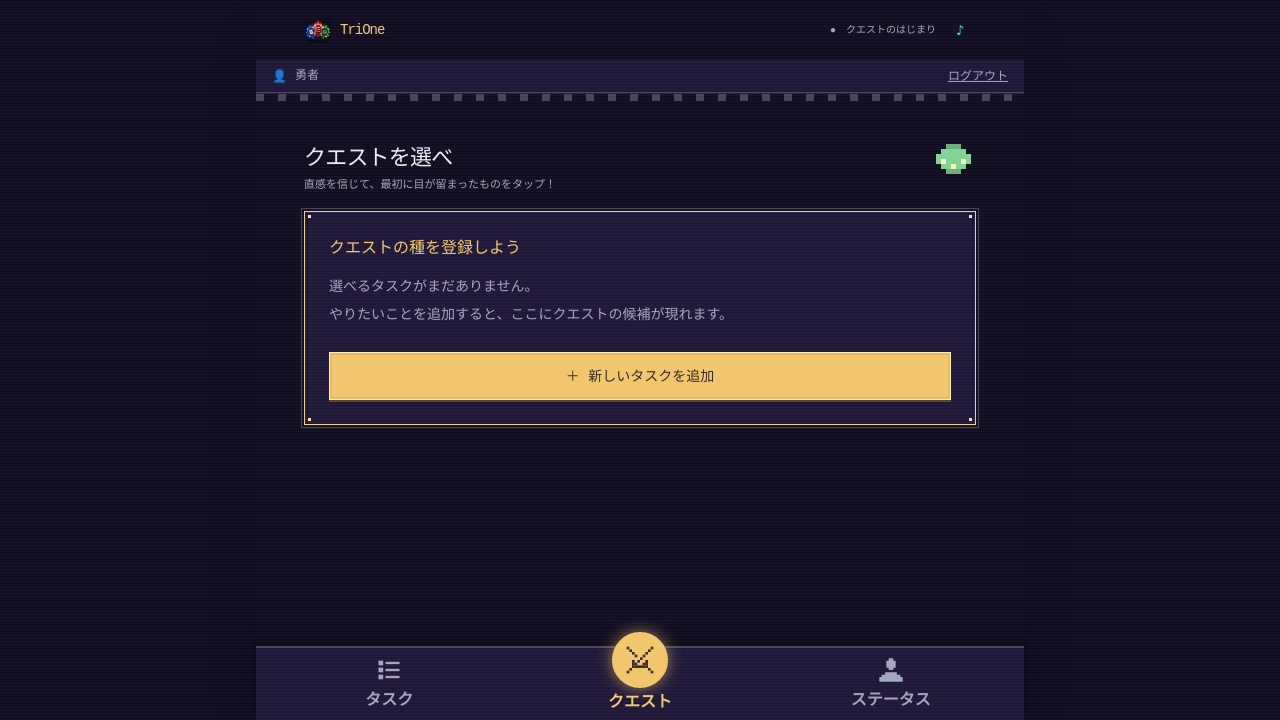
Test: タスク登録と3択の画面遷移 › 保存失敗時は入力を失わず、再送が成功するまで作成画面を閉じない
This screenshot has width=1280, height=720.
Click the button "＋ 新しいタスクを追加": [640, 376] box left=329, top=352, right=951, bottom=400
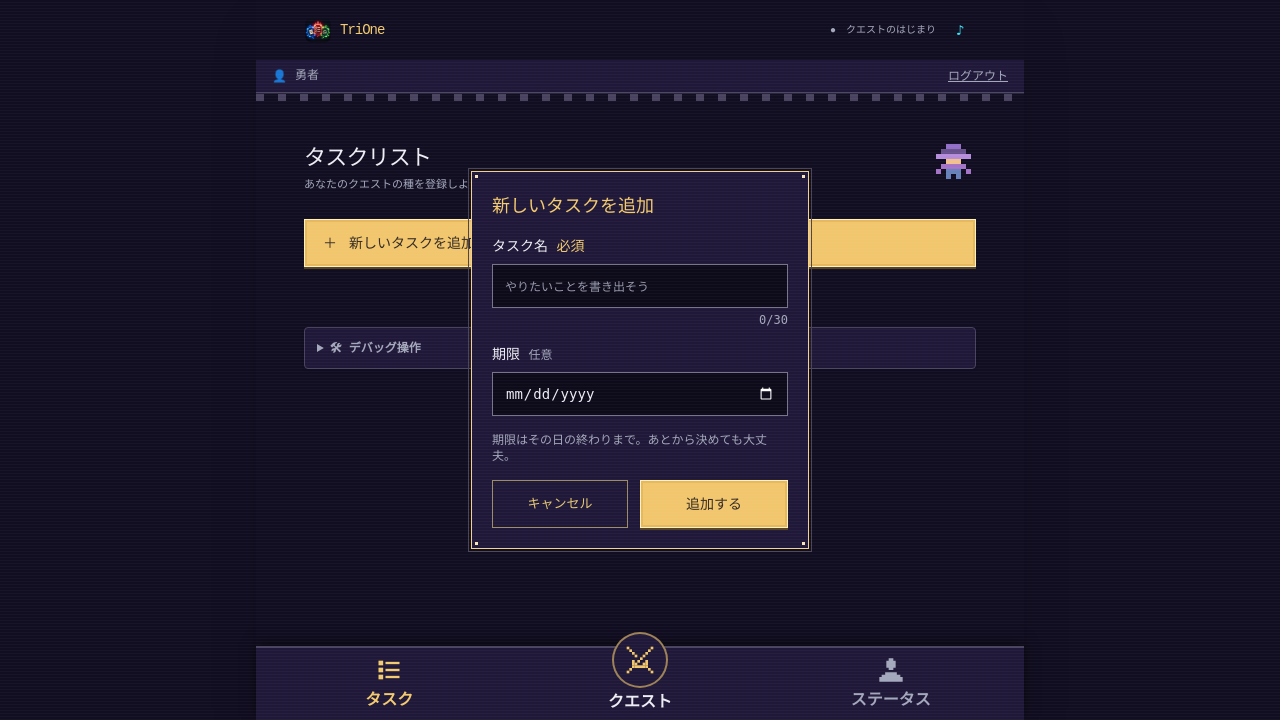
In the field labelled "タスク名 必須": [640, 286] box left=492, top=264, right=788, bottom=308, type "消してはいけない下書き"
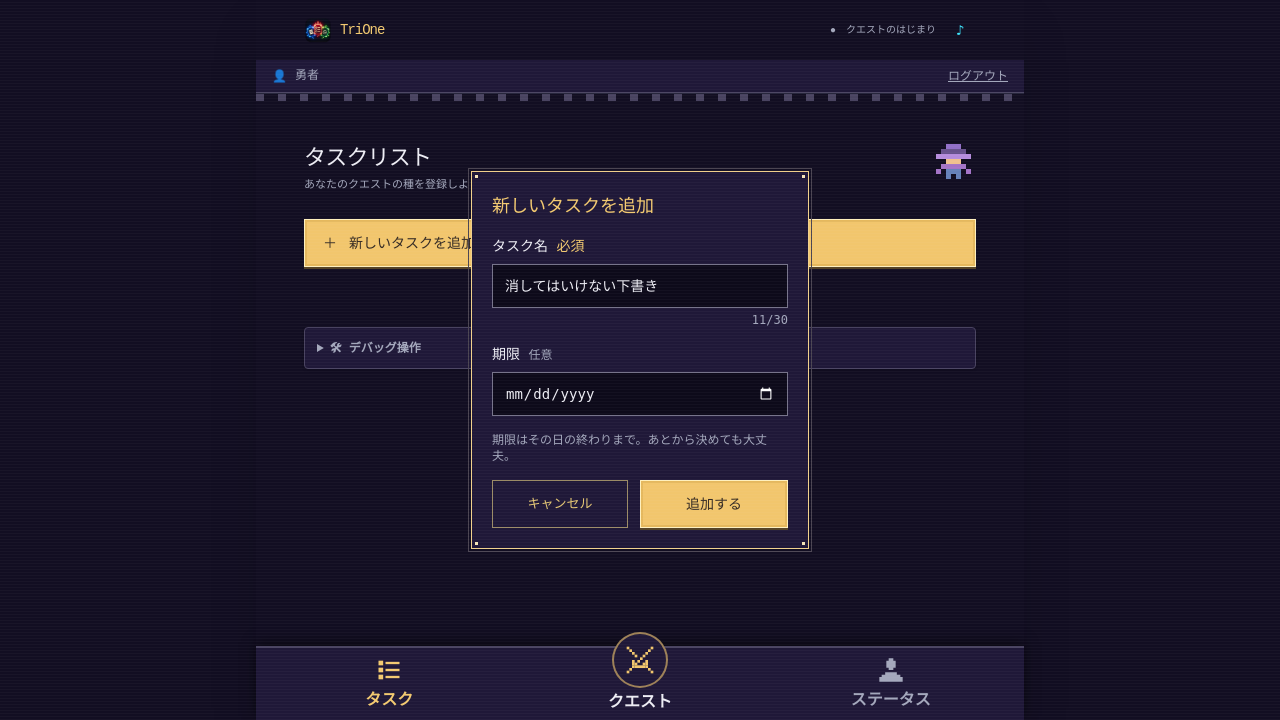
In the date field labelled "期限 任意": [640, 394] box left=492, top=372, right=788, bottom=416, type "2026-11-01"
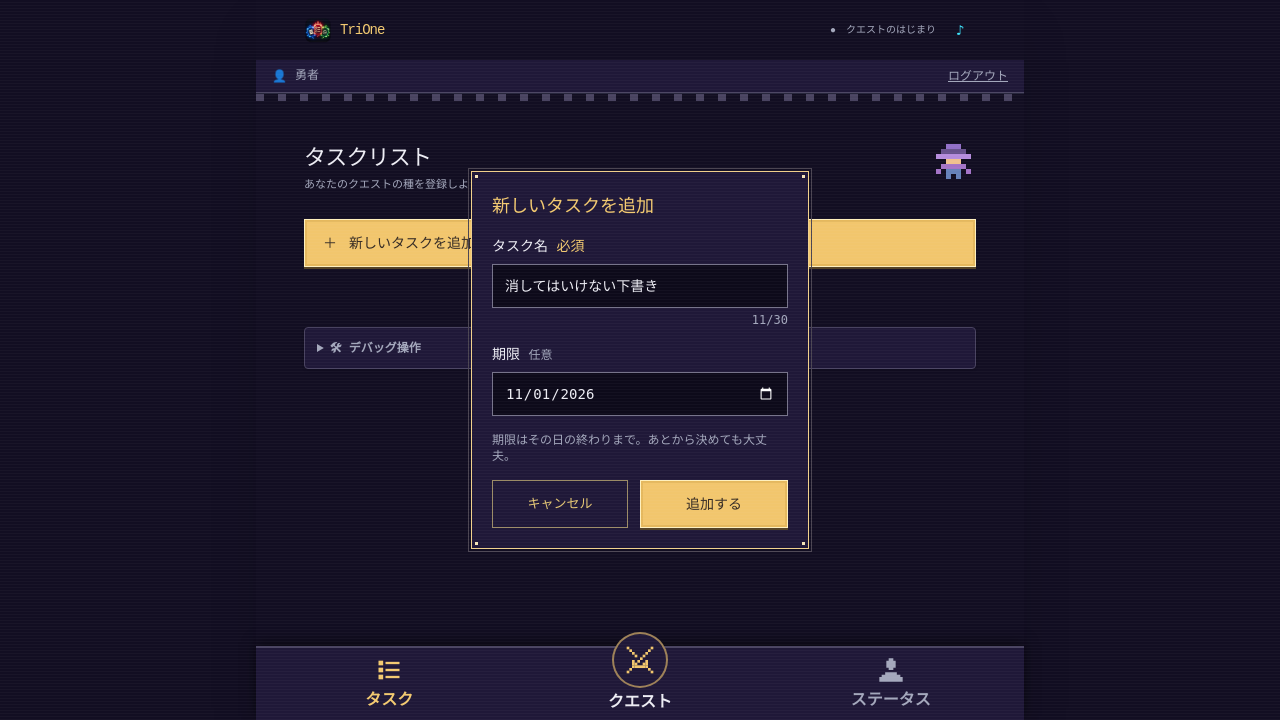
Click the button "追加する": [714, 504] box left=640, top=480, right=788, bottom=528
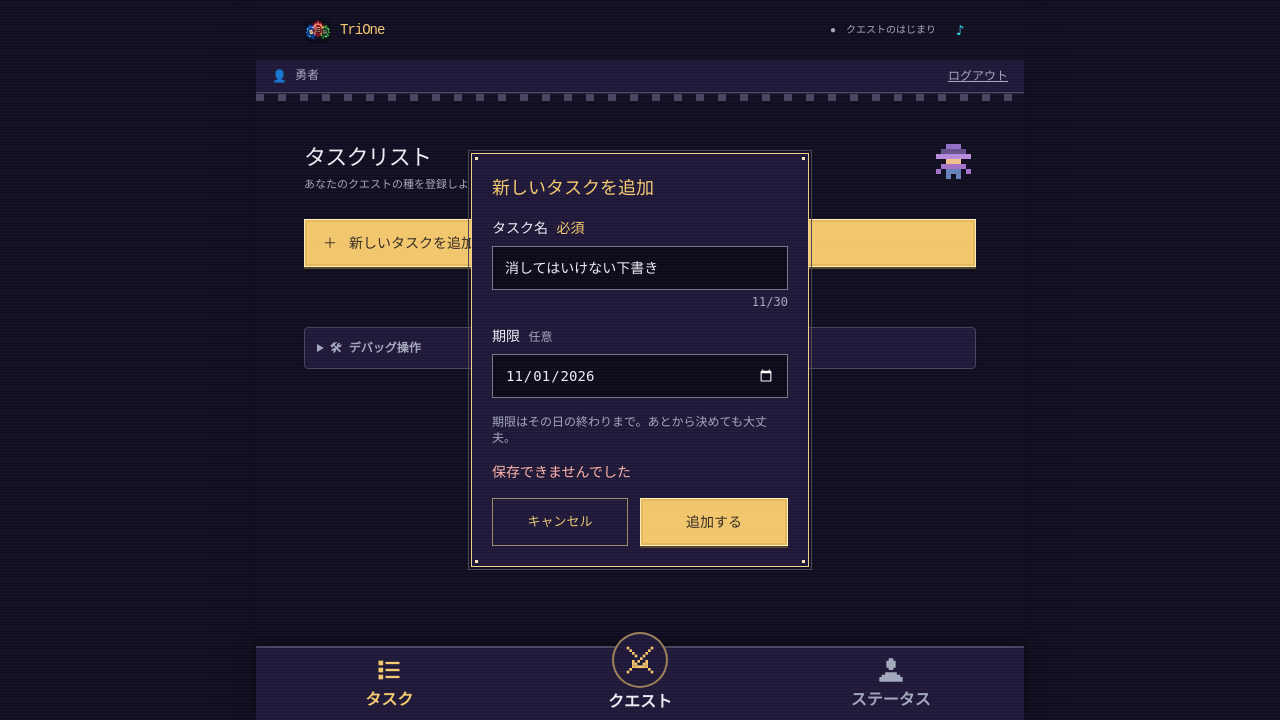
Check: the dialog is shown, box left=467, top=149, right=813, bottom=571
Check: the message "保存できませんでした" is shown, box left=492, top=464, right=631, bottom=480
Click the button "追加する": [714, 522] box left=640, top=498, right=788, bottom=546
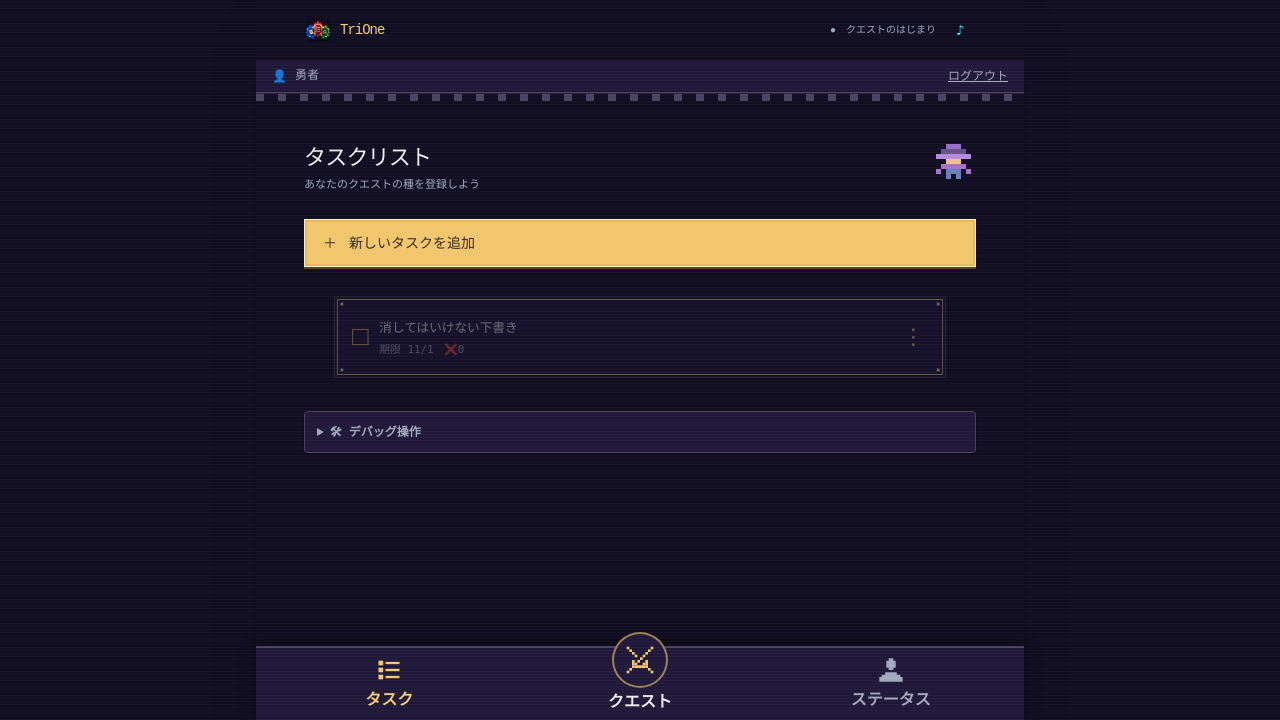
Check: the dialog is gone
